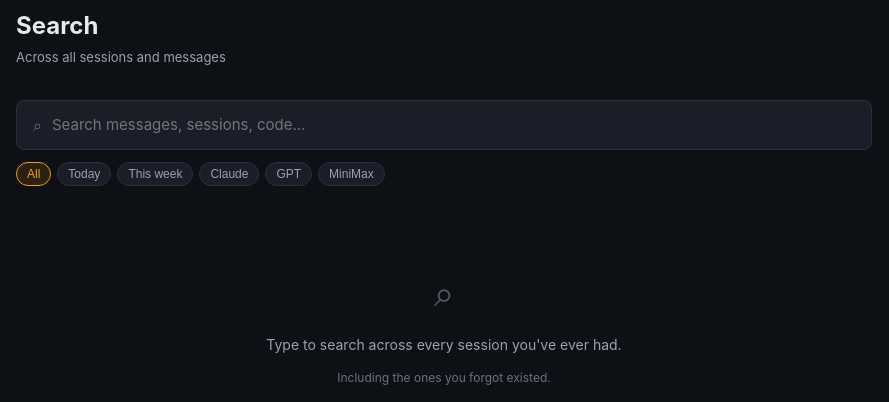
Test: SearchView › shows "no matches" when results are empty
The width and height of the screenshot is (889, 402).
Type "zzz" into the field with placeholder "Search messages, sessions, code…" at (452, 124), box [50,114,855,135]
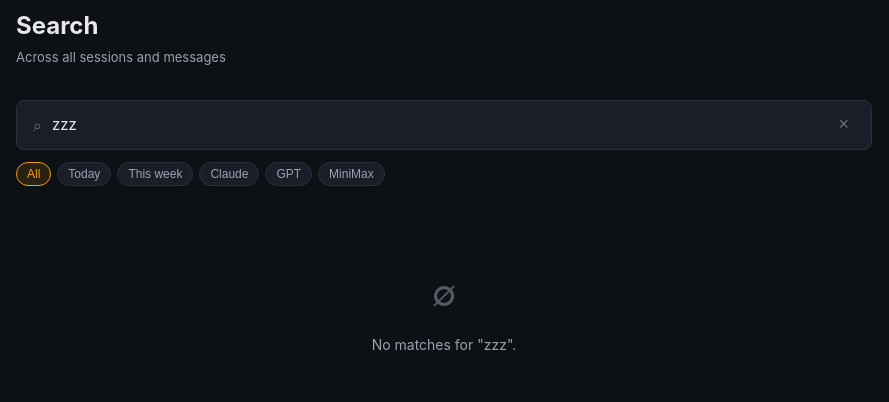
Result: the text "No matches for \"zzz\"." is shown at [372,336,516,352]
